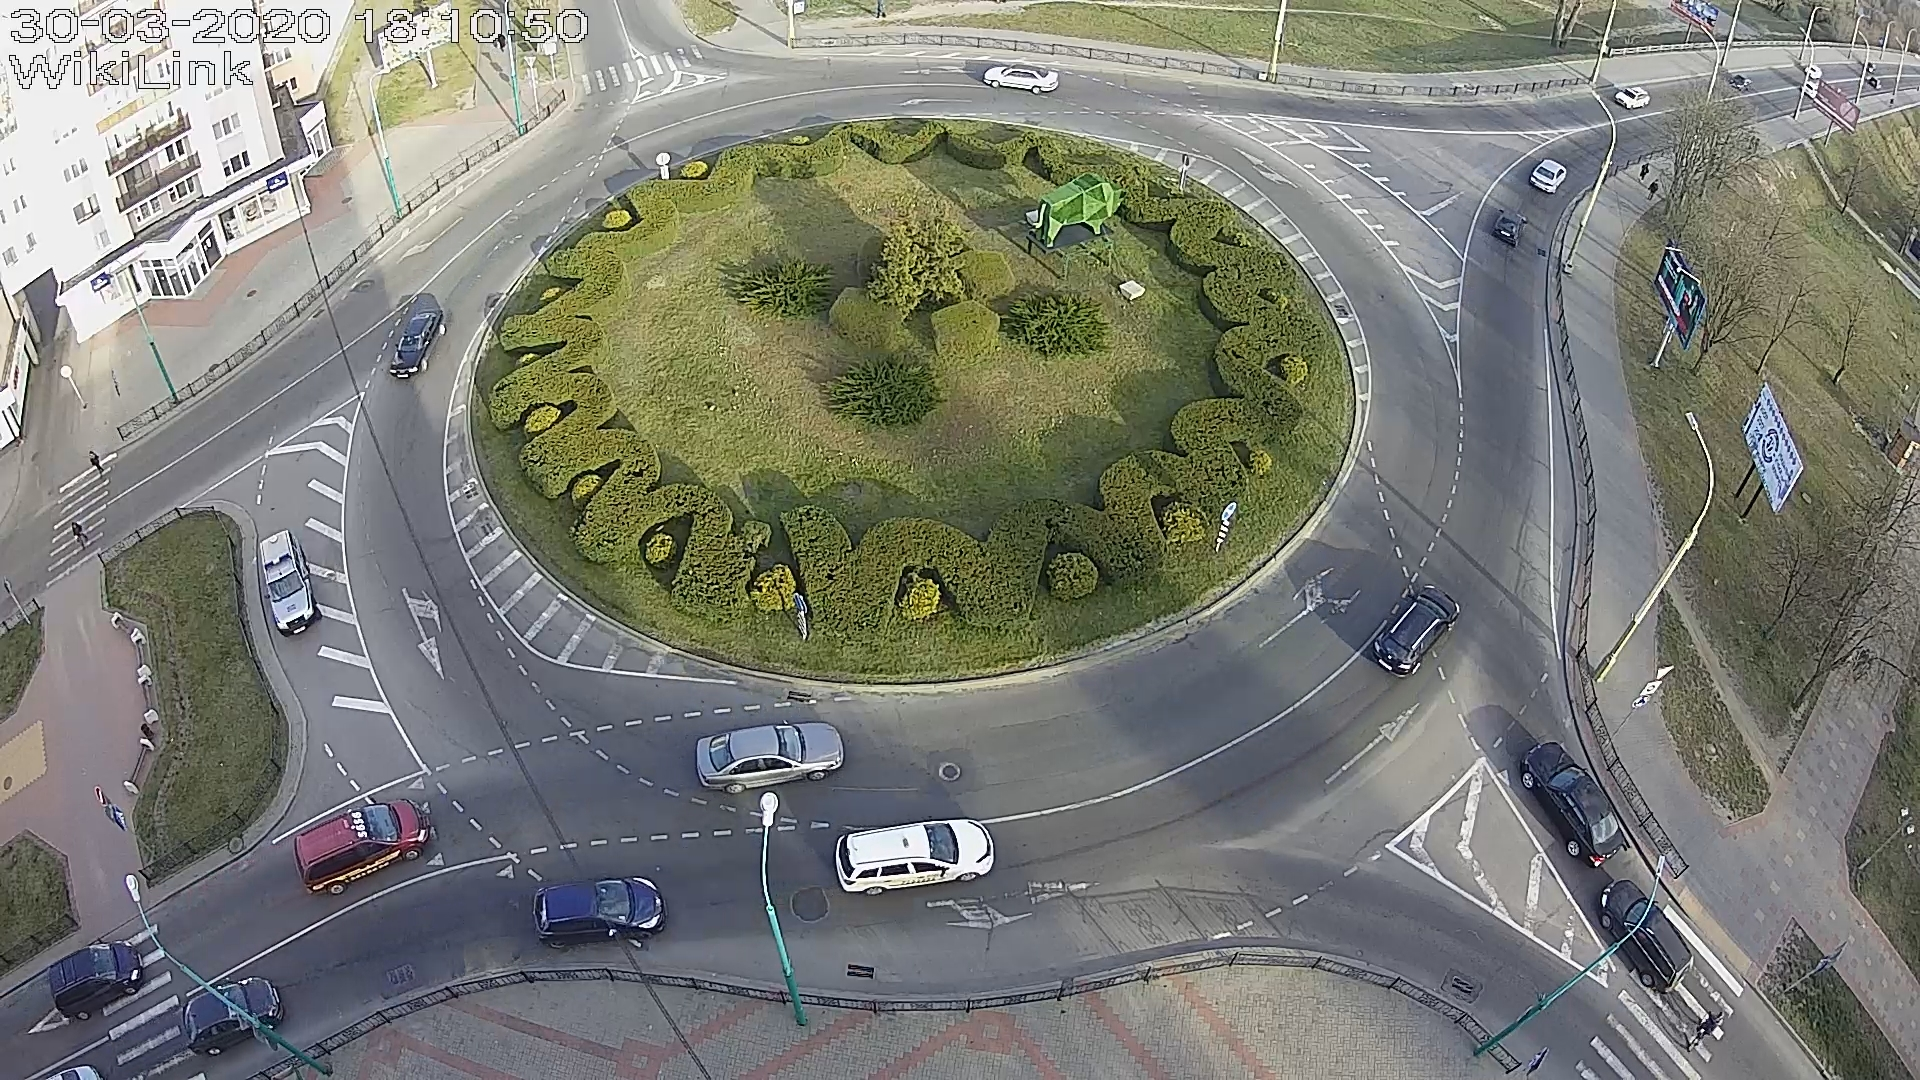car: (293, 798, 430, 895), (1520, 742, 1625, 869), (833, 818, 996, 895), (695, 720, 845, 794), (1598, 880, 1695, 994), (533, 876, 669, 949), (182, 975, 284, 1058), (1373, 584, 1461, 679), (49, 938, 144, 1021), (258, 530, 323, 637), (390, 309, 447, 378), (982, 65, 1059, 95), (1491, 208, 1528, 248), (1530, 158, 1567, 194), (1614, 86, 1651, 109)
